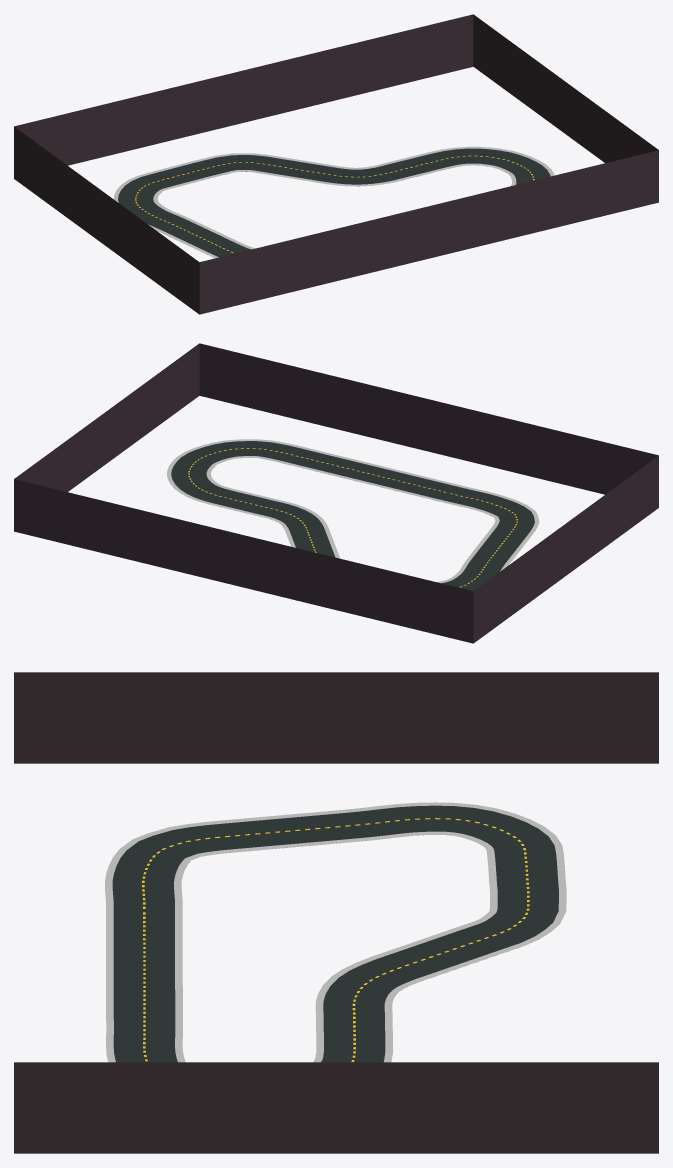
Rendered from reinvent_base.dae.
3 renders of one model, top to bottom at view 1: azimuth 30°, elevation 25°; view 2: azimuth 150°, elevation 25°; view 3: azimuth 270°, elevation 25°, orthographic. The views are drawn at different scales.
Parts seen in each view (by area): view 1: wall, road, ol, il; view 2: wall, road, ol, il, cl; view 3: wall, road, ol, il, cl.
Boxes of the visible parts, bbox=[...] form: wall: bbox=[14, 14, 658, 314]; road: bbox=[118, 148, 550, 257]; ol: bbox=[113, 146, 554, 258]; il: bbox=[153, 163, 516, 249]; wall: bbox=[14, 343, 658, 643]; road: bbox=[171, 441, 534, 590]; ol: bbox=[167, 439, 539, 571]; il: bbox=[206, 456, 499, 583]; cl: bbox=[188, 448, 517, 587]; wall: bbox=[14, 672, 658, 1153]; road: bbox=[112, 805, 558, 1062]; ol: bbox=[105, 802, 566, 1062]; il: bbox=[174, 831, 497, 1062]; cl: bbox=[142, 818, 529, 1061].
Bounding box in the file's own units: 9.16 × 6.41 × 1.
